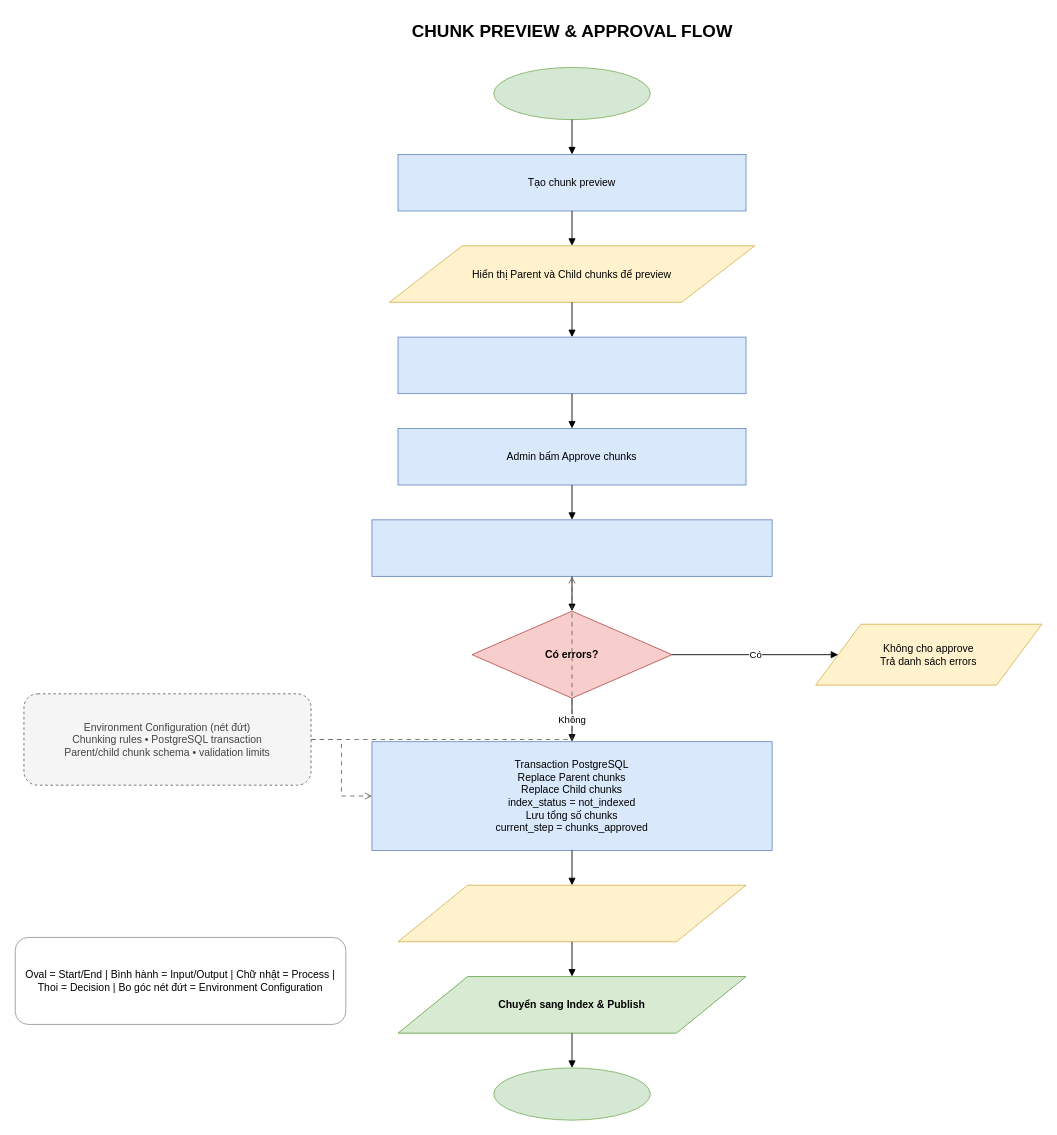
The diagram is 1057 pixels wide and 1135 high, and some of its shapes have lost their labels. Each missing label, with the centre of its shape:
Admin kiểm tra chunks: point (571, 365)
Backend tạo và validate lại đúng bộ chunks: point (571, 547)
Bắt đầu: point (571, 93)
Kết thúc: point (571, 1093)
Trả kết quả approve: point (571, 913)
